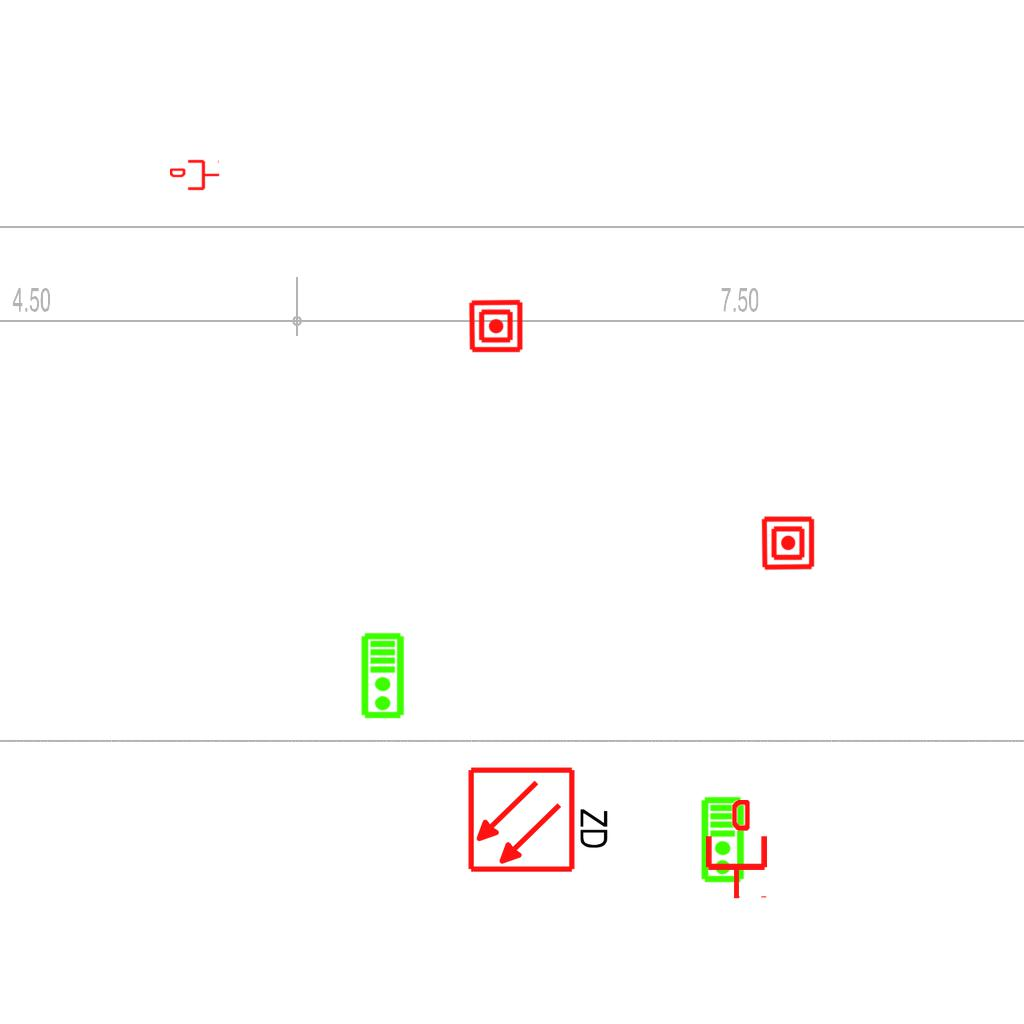Datenanschluss_einfach: (702, 800, 771, 900), (170, 158, 220, 192)
Gegensprechanlage_mit_Video: (360, 632, 407, 720), (700, 796, 747, 884)
NAM-Nichtautomatischer_Melder: (759, 514, 817, 572), (468, 298, 524, 354)
ZD_Melder_in_Zwischendecke_mit_Revisionsoeffnung_mind_40_x_40_cm: (466, 761, 615, 875)
